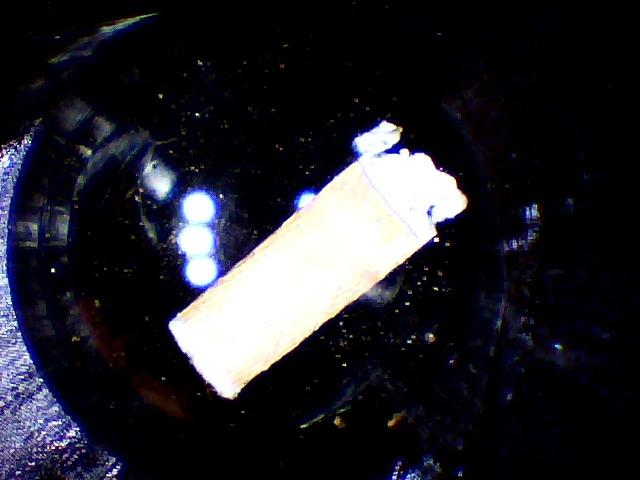megot: (159, 108, 477, 411)
